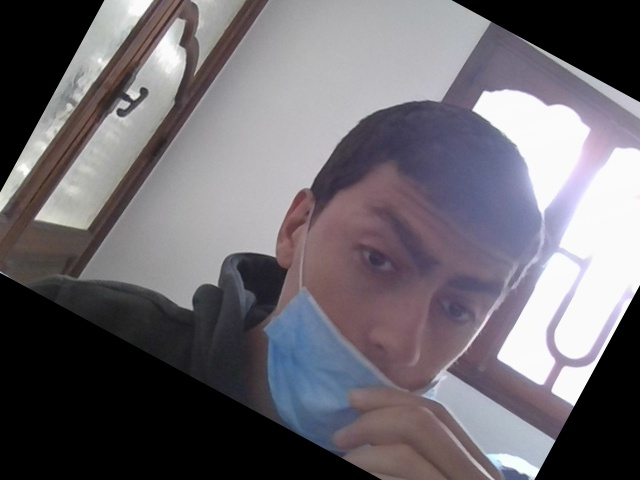mask_weared_incorrect: (267, 148, 523, 467)
